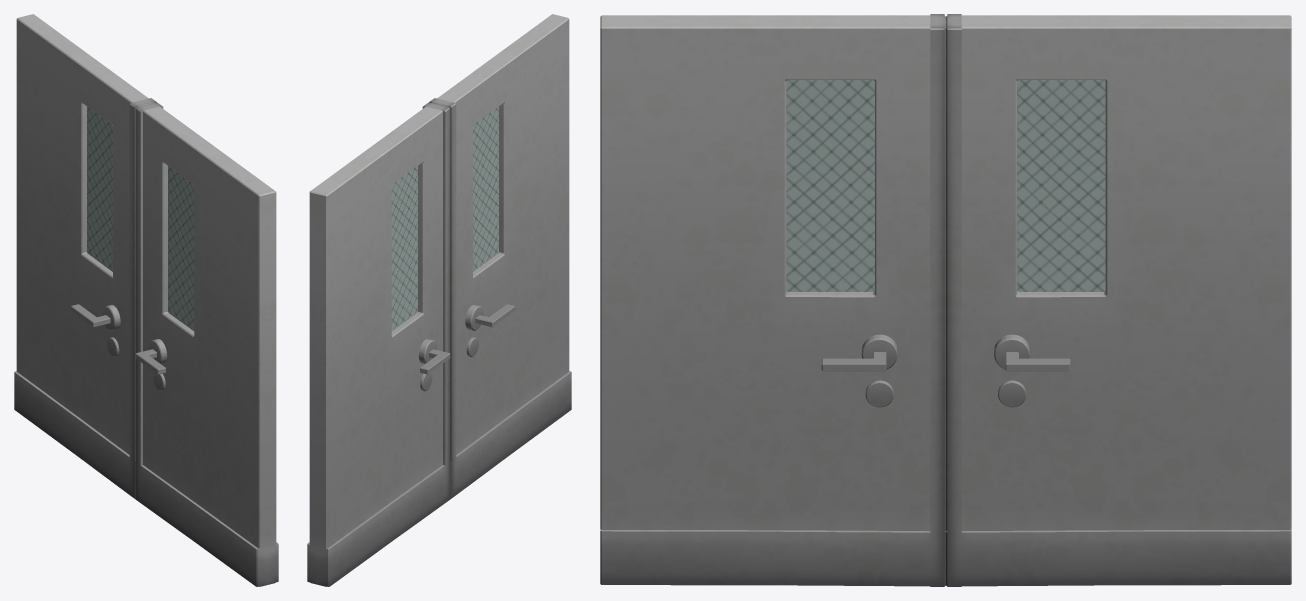
Rendered from Digdig double door with handles.fbx.
The picture shows the model from 3 angles, left to right: view 1: azimuth 30°, elevation 25°; view 2: azimuth 150°, elevation 25°; view 3: azimuth 270°, elevation 25°; orthographic projection. The views are drawn at different scales.
Visible parts, largest first — view 1: polySurface84; view 2: polySurface84; view 3: polySurface84.
Part boxes in pixels (x1=…): polySurface84: x1=14, y1=14, x2=278, y2=586; polySurface84: x1=307, y1=14, x2=571, y2=586; polySurface84: x1=600, y1=14, x2=1291, y2=586.
Bounding box in the file's own units: 0.1172 × 0.6831 × 0.7657.
